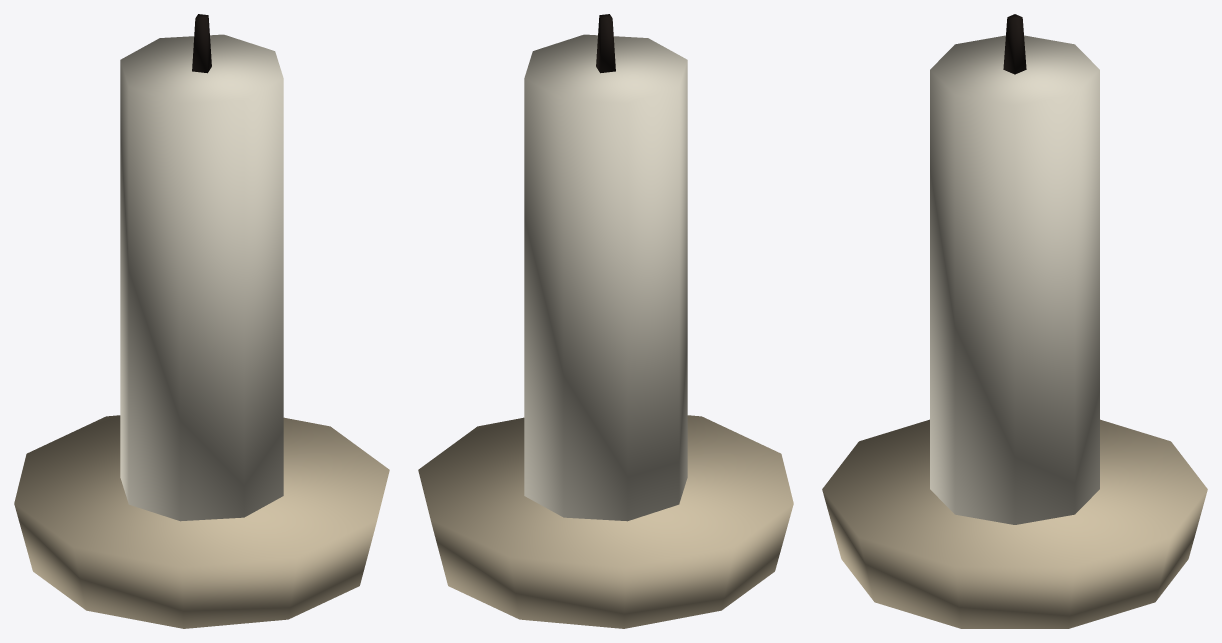
Rendered from boreal_candle_v0.glb.
The picture shows the model from 3 angles, left to right: view 1: azimuth 30°, elevation 25°; view 2: azimuth 150°, elevation 25°; view 3: azimuth 270°, elevation 25°; orthographic projection.
Visible parts, largest first — view 1: boreal_candle_v0; view 2: boreal_candle_v0; view 3: boreal_candle_v0.
Boxes of the visible parts, x1,y1,x2,y2 form: boreal_candle_v0: (14, 14, 389, 628); boreal_candle_v0: (418, 14, 793, 628); boreal_candle_v0: (822, 14, 1207, 628).
Size of the model in its own units: 0.0951 by 0.155 by 0.1.
